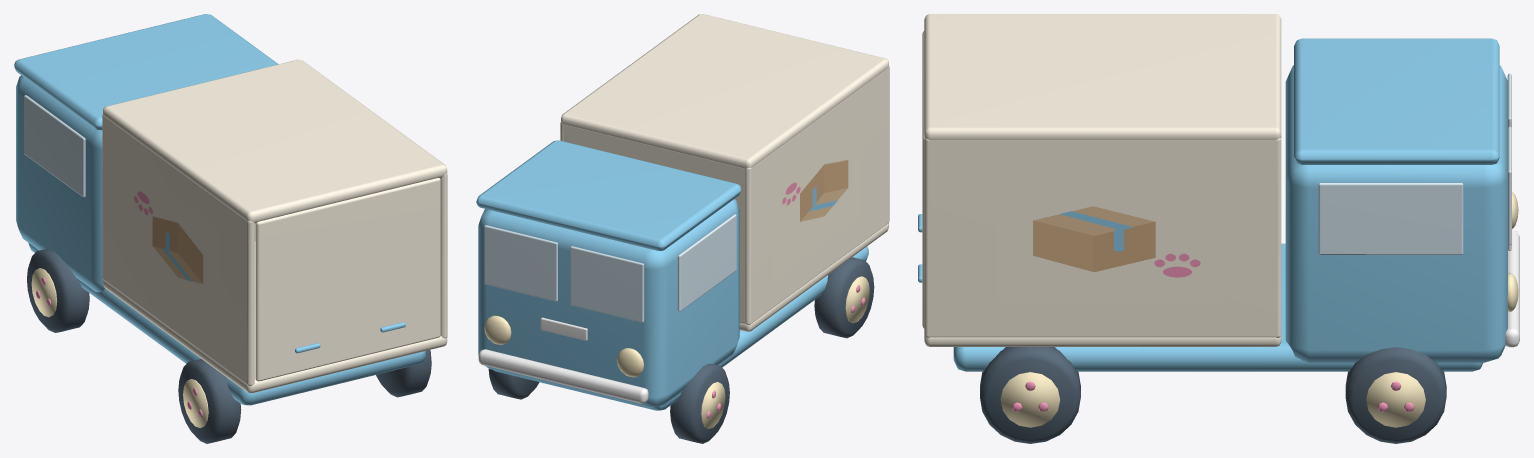
File: truck.glb
3 views of the same model, side by side, from view 1: azimuth 30°, elevation 25°; view 2: azimuth 150°, elevation 25°; view 3: azimuth 270°, elevation 25° (orthographic). The views are drawn at different scales.
Visible parts, largest first — view 1: Body, Door_Back, Wheel_BL, Wheel_FL, Wheel_BR; view 2: Body, Wheel_BL, Wheel_FL, Wheel_FR; view 3: Body, Wheel_BR, Wheel_FR, Door_Back.
Part boxes in pixels (x1,y1,x2,y2): Body: (14,14,447,405); Door_Back: (255,178,440,381); Wheel_BL: (178,359,240,443); Wheel_FL: (27,248,89,332); Wheel_BR: (376,350,431,397); Body: (476,14,889,410); Wheel_BL: (814,257,874,338); Wheel_FL: (670,363,729,443); Wheel_FR: (488,369,539,399); Body: (924,14,1519,371); Wheel_BR: (980,347,1080,443); Wheel_FR: (1345,347,1446,443); Door_Back: (918,31,924,328).
Size of the model in its own units: 1.8 by 2 by 3.5.
8 materials, 8 textured.
